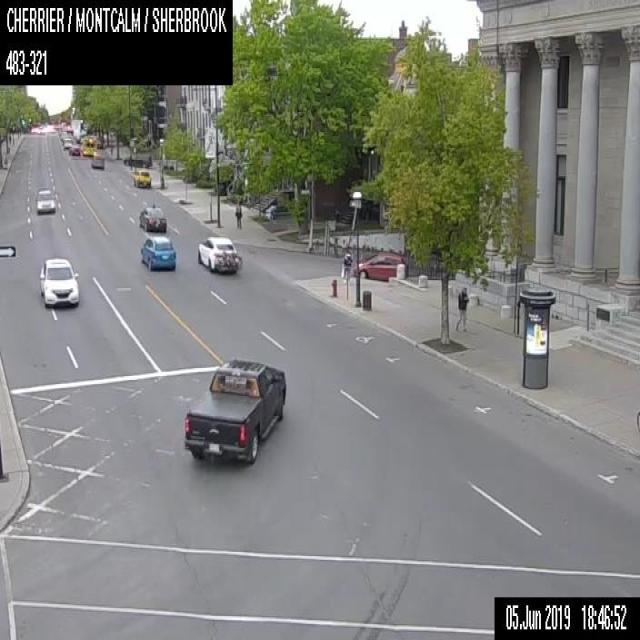pedestrian: (455, 286, 469, 331), (340, 252, 352, 282), (234, 202, 242, 230)
vehicle: (182, 358, 285, 464), (38, 256, 79, 307), (197, 236, 242, 272), (351, 250, 408, 278), (140, 235, 174, 269), (138, 202, 166, 232), (34, 187, 56, 213), (130, 168, 152, 187), (122, 154, 152, 167), (80, 137, 96, 156), (91, 150, 104, 168), (68, 143, 80, 155), (62, 137, 72, 148)
